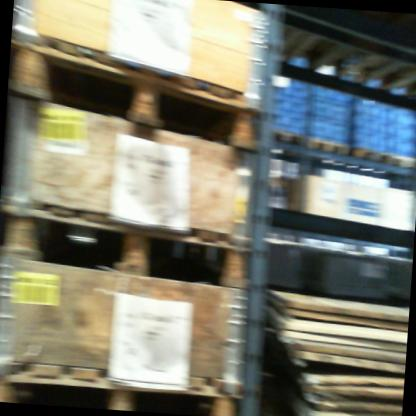pallet: (6, 29, 265, 154), (0, 198, 259, 294), (0, 365, 242, 416), (307, 136, 351, 158), (351, 146, 387, 164), (272, 130, 309, 146), (385, 153, 416, 171)
